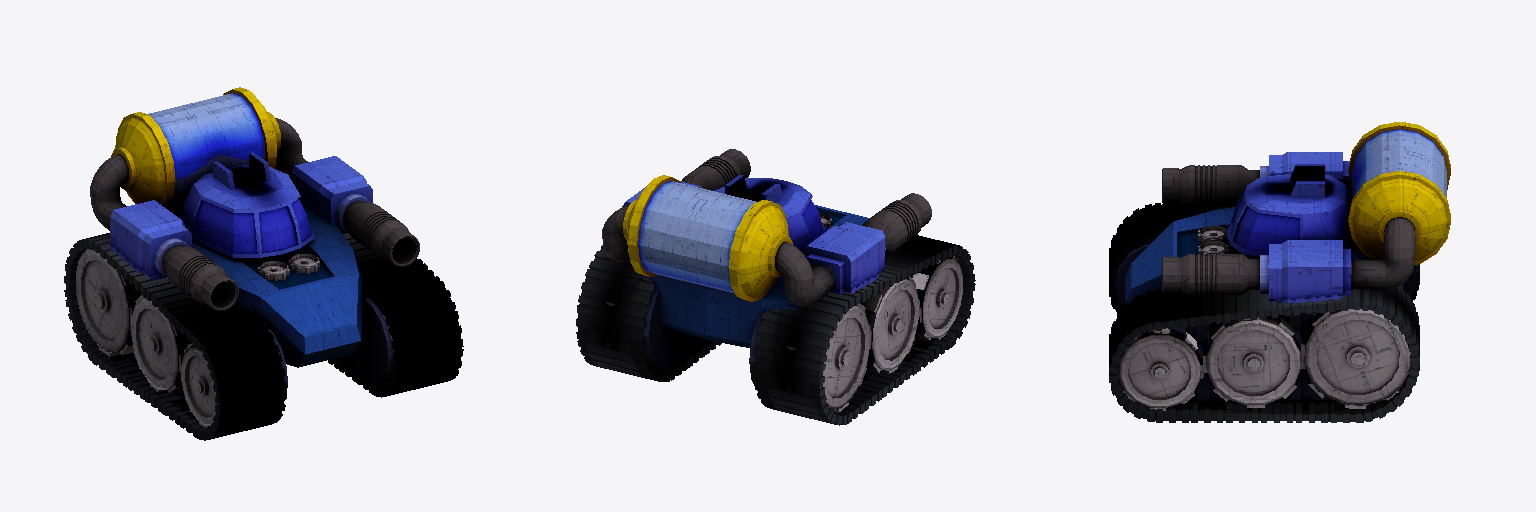
The picture shows the model from 3 angles: view 1: azimuth 30°, elevation 25°; view 2: azimuth 150°, elevation 25°; view 3: azimuth 270°, elevation 25°; orthographic projection.
Visible parts, largest first — view 1: Object001, Box042, Object004, Object003, Object002; view 2: Object001, Box042, Object003, Object004, Object002; view 3: Object001, Box042, Object004, Object003, Object002.
Part boxes in pixels (x1,y1,x2,y2): Object001: (90, 87, 419, 396); Box042: (64, 233, 463, 440); Object004: (76, 249, 141, 356); Object003: (130, 295, 190, 392); Object002: (181, 343, 216, 427); Object001: (602, 149, 931, 390); Box042: (576, 235, 975, 425); Object003: (863, 277, 919, 373); Object004: (823, 303, 870, 412); Object002: (912, 256, 962, 340); Object001: (1115, 122, 1450, 399); Box042: (1109, 203, 1419, 422); Object004: (1301, 308, 1410, 408); Object003: (1203, 316, 1304, 407); Object002: (1119, 328, 1203, 410).
Size of the model in its own units: 121 by 102 by 147.
Materials: 2 (2 with a texture image).